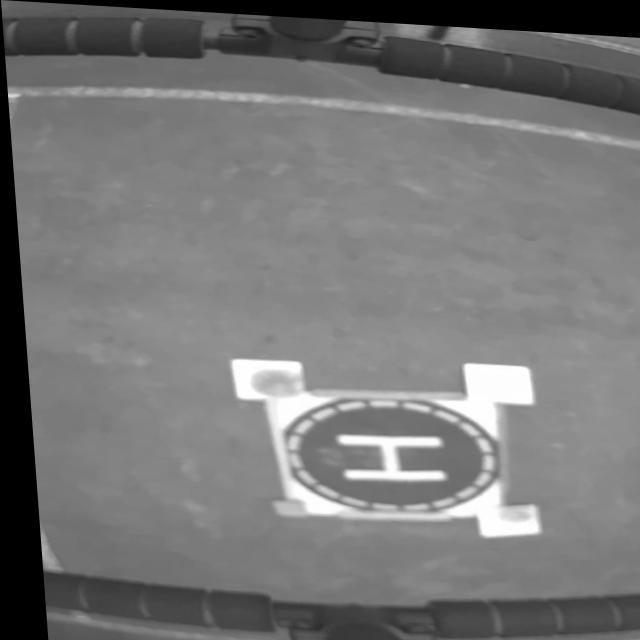Helipad: (330, 430, 438, 477)
